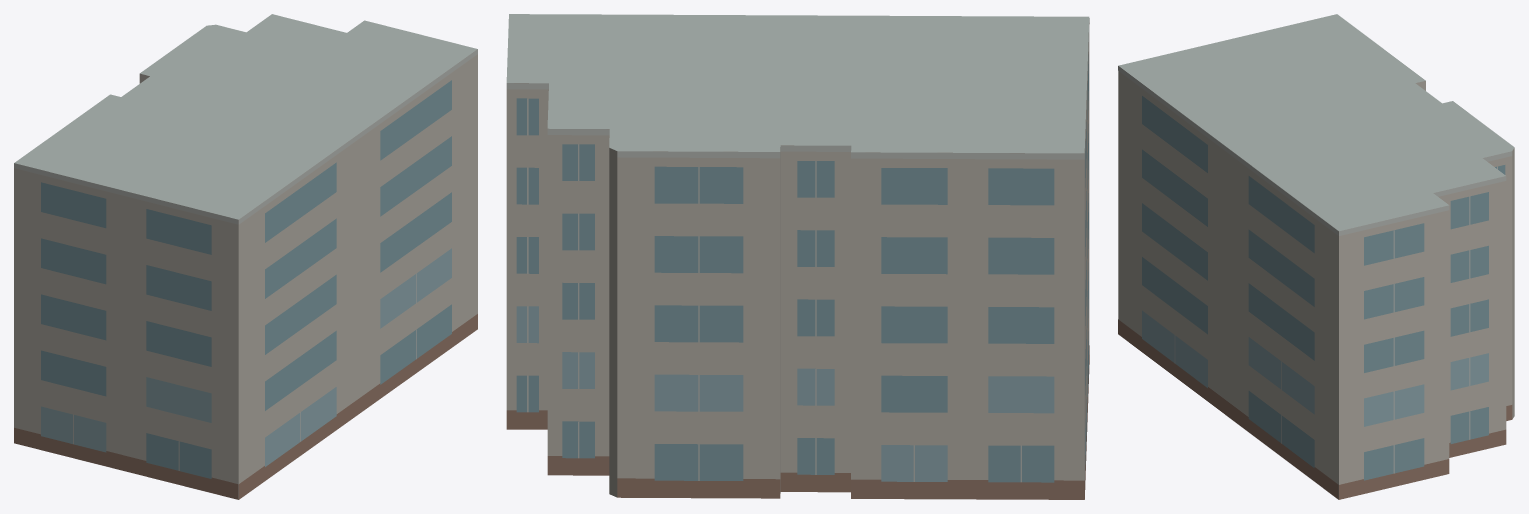
File: survey-upis-32786406.glb
3 renders of one model, left to right at view 1: azimuth 30°, elevation 25°; view 2: azimuth 150°, elevation 25°; view 3: azimuth 270°, elevation 25°, orthographic. The views are drawn at different scales.
Parts seen in each view (by area): view 1: survey-upis-32786406.tmp; view 2: survey-upis-32786406.tmp; view 3: survey-upis-32786406.tmp.
Part boxes in pixels (bbox=[...]): survey-upis-32786406.tmp: bbox=[14, 14, 477, 499]; survey-upis-32786406.tmp: bbox=[506, 14, 1089, 499]; survey-upis-32786406.tmp: bbox=[1118, 14, 1514, 499].
Bounding box in the file's own units: 23.44 × 13.5 × 18.08.
